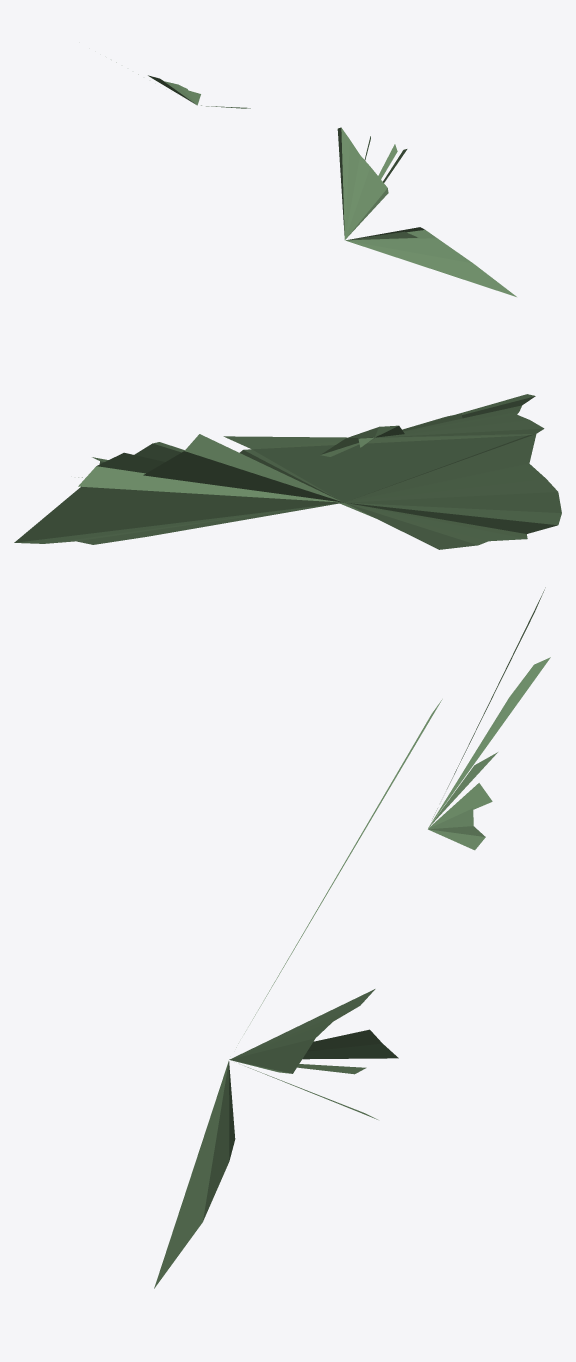
The model's file is c_1666_17823_forest.glb.
The picture shows the model from 3 angles, top to bottom: view 1: azimuth 30°, elevation 25°; view 2: azimuth 150°, elevation 25°; view 3: azimuth 270°, elevation 25°; orthographic projection. The views are drawn at different scales.
Parts seen in each view (by area): view 1: geometry_0; view 2: geometry_0; view 3: geometry_0.
Part boxes in pixels (box(x1,y1,x2,y2)): geometry_0: box(116, 62, 516, 296); geometry_0: box(14, 394, 561, 549); geometry_0: box(154, 587, 550, 1288).
Size of the model in its own units: 690 by 447 by 485.
